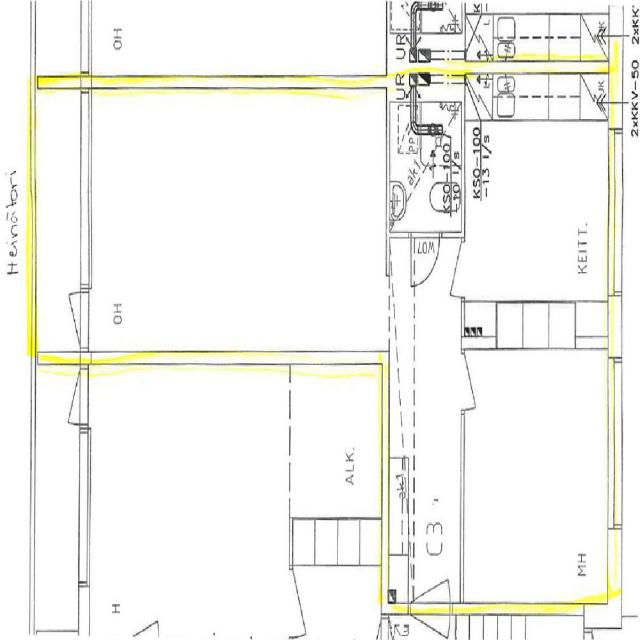door: (410, 534, 450, 614), (47, 292, 88, 348), (462, 353, 498, 409), (429, 242, 465, 297), (411, 232, 439, 286)
